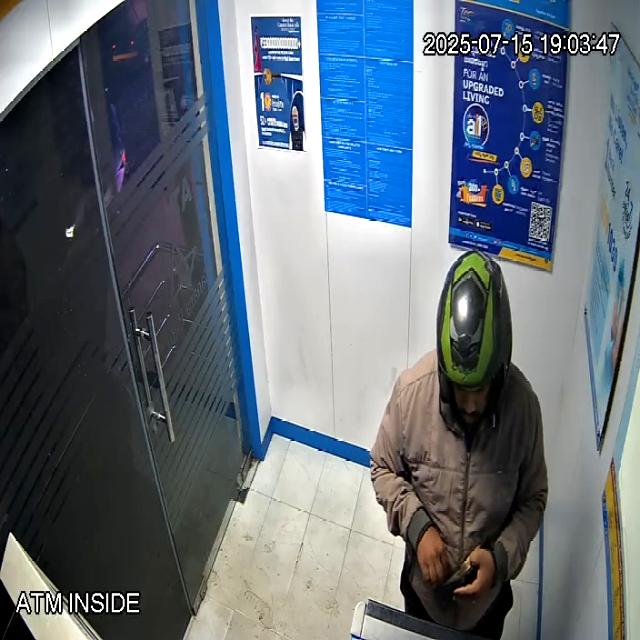helmet: (436, 249, 514, 439)
